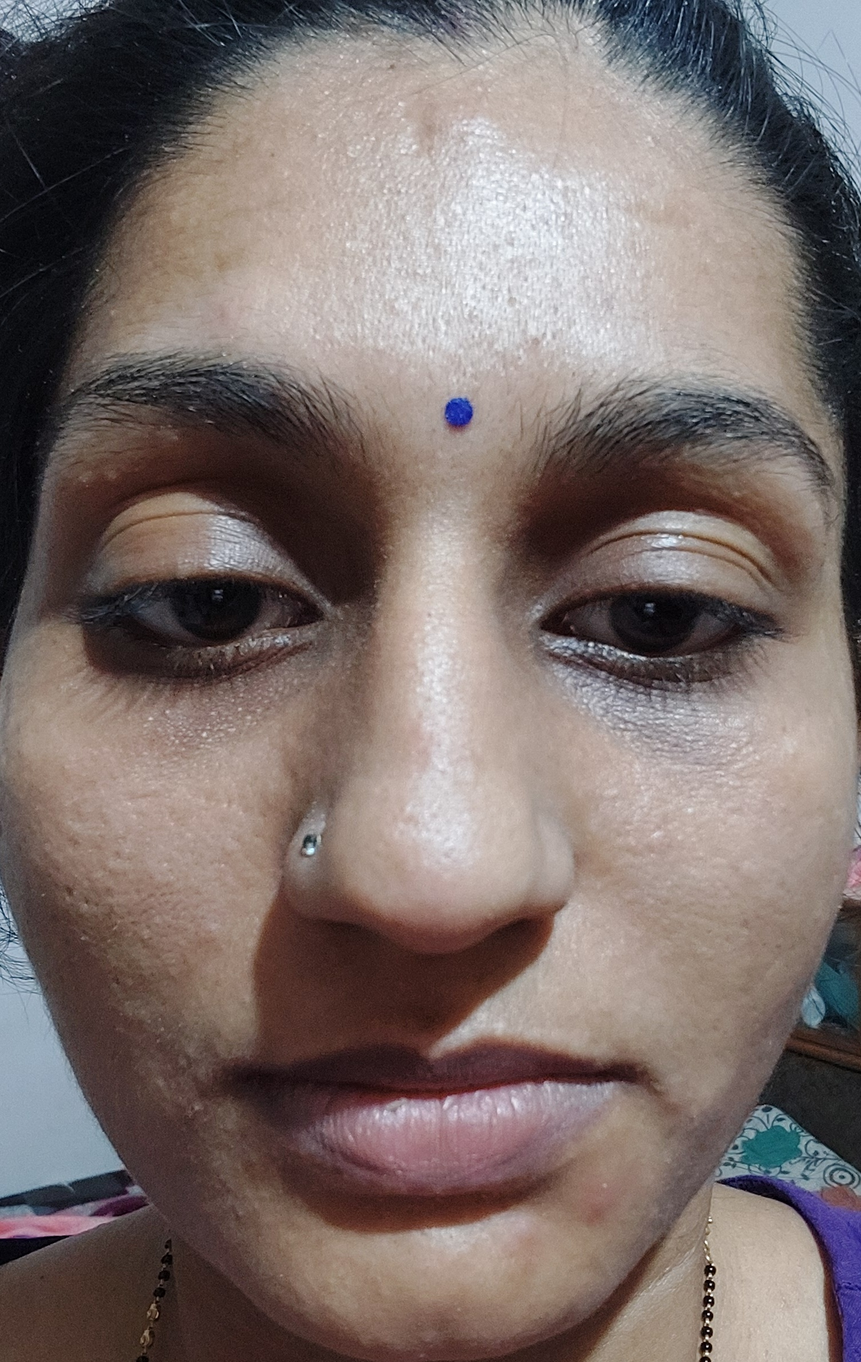papule: (567, 1188, 642, 1266), (507, 1199, 547, 1264)
